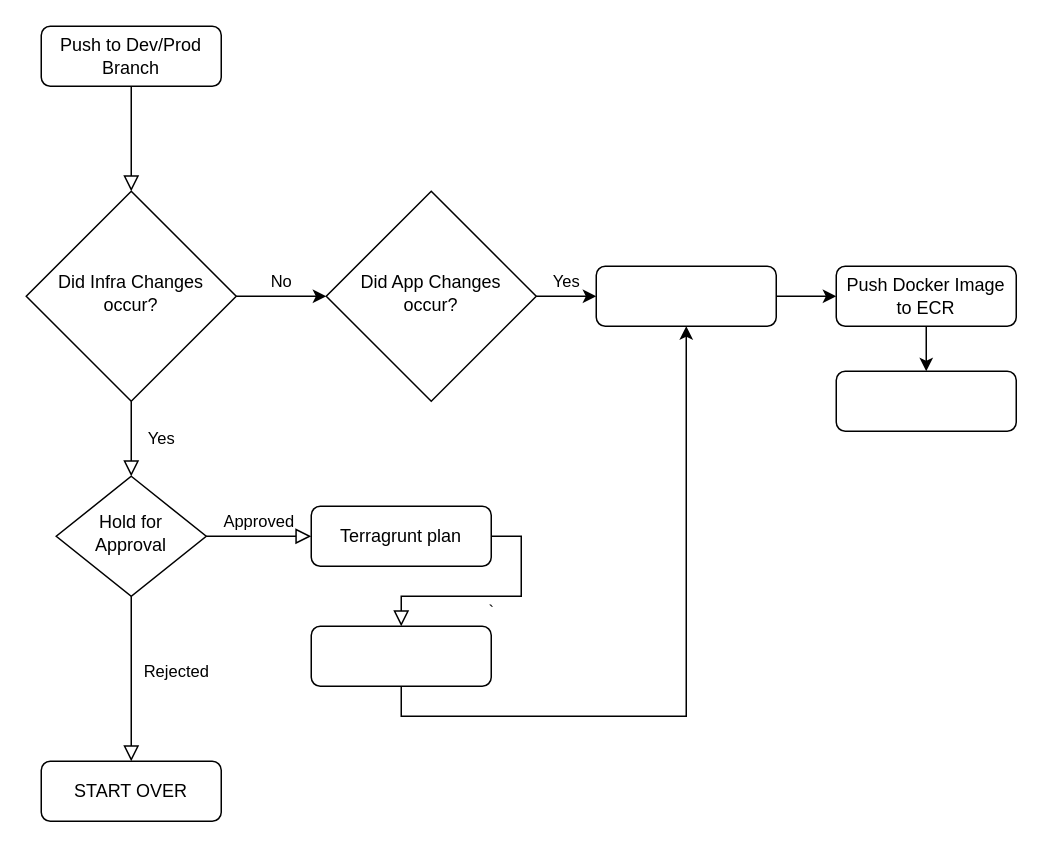
Image size: 1043x848. Some labels were removed from this diagram. The centre of each missing label's shape, as x and y in pixels:
"Build Docker Image" goes at point (685, 295).
"Deploy to ECS/Fargate" goes at point (925, 400).
"Terragrunt apply" goes at point (400, 655).
